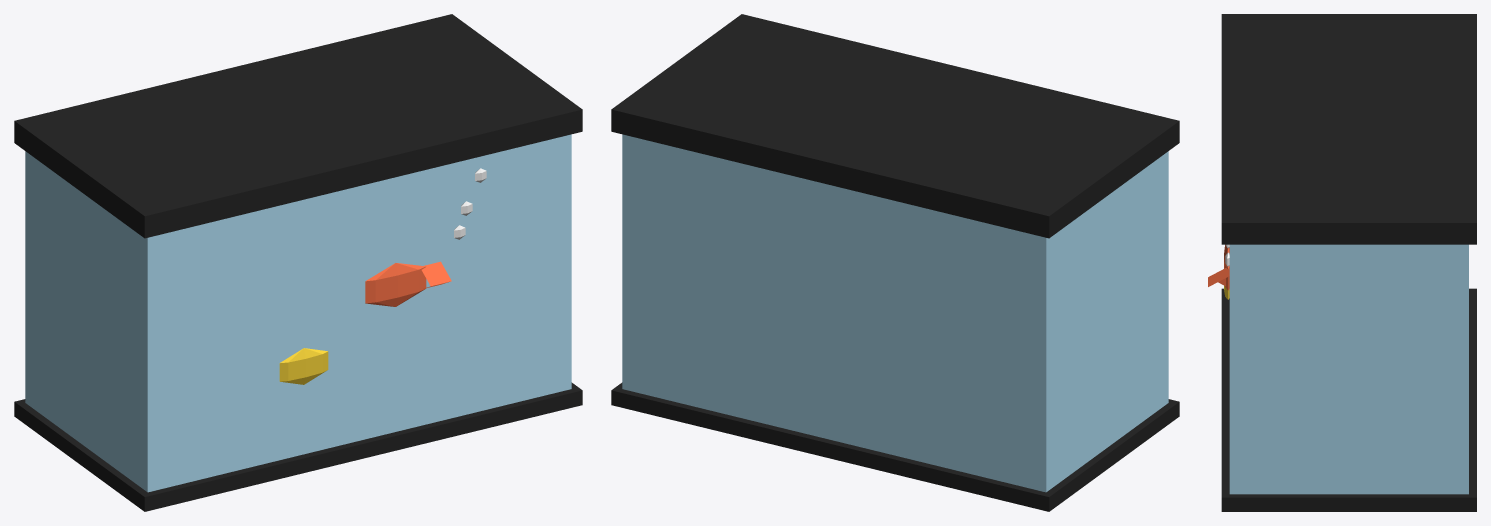
File: akvarium.glb
3 renders of one model, left to right at view 1: azimuth 30°, elevation 25°; view 2: azimuth 150°, elevation 25°; view 3: azimuth 270°, elevation 25°, orthographic. The views are drawn at different scales.
Visible parts, largest first — view 1: akvarium; view 2: akvarium; view 3: akvarium.
Boxes of the visible parts, x1,y1,x2,y2 form: akvarium: (14, 14, 582, 511); akvarium: (611, 14, 1179, 511); akvarium: (1208, 14, 1476, 511).
Bounding box in the file's own units: 0.62 × 0.4 × 0.337.
